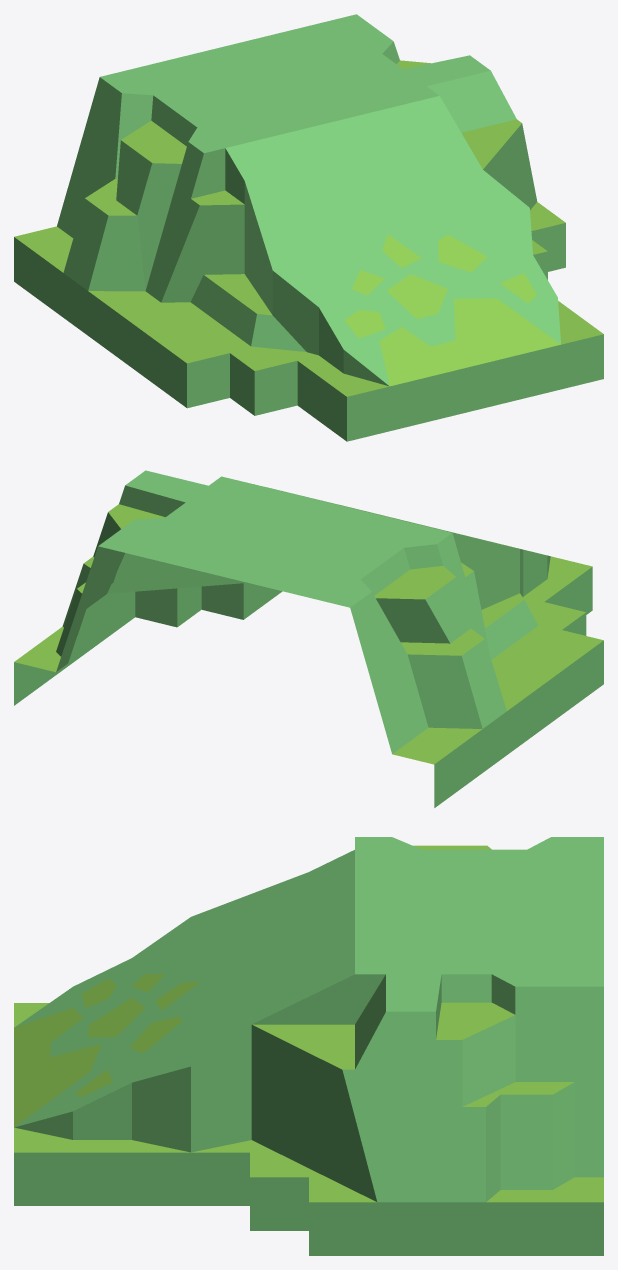
Rendered from x_zem_1_1_spusk1_rmstrd.fbx.
3 views of the same model, one above another, from view 1: azimuth 30°, elevation 25°; view 2: azimuth 150°, elevation 25°; view 3: azimuth 270°, elevation 25° (orthographic). The views are drawn at different scales.
Parts seen in each view (by area): view 1: x_zem_1_1_spusk1_rmstrd1; view 2: x_zem_1_1_spusk1_rmstrd1; view 3: x_zem_1_1_spusk1_rmstrd1.
Part boxes in pixels (left/top/right/bottom): x_zem_1_1_spusk1_rmstrd1: left=14, top=14, right=603, bottom=441; x_zem_1_1_spusk1_rmstrd1: left=14, top=470, right=603, bottom=807; x_zem_1_1_spusk1_rmstrd1: left=14, top=837, right=603, bottom=1255.
Bounding box in the file's own units: 10 × 4.1 × 10.
